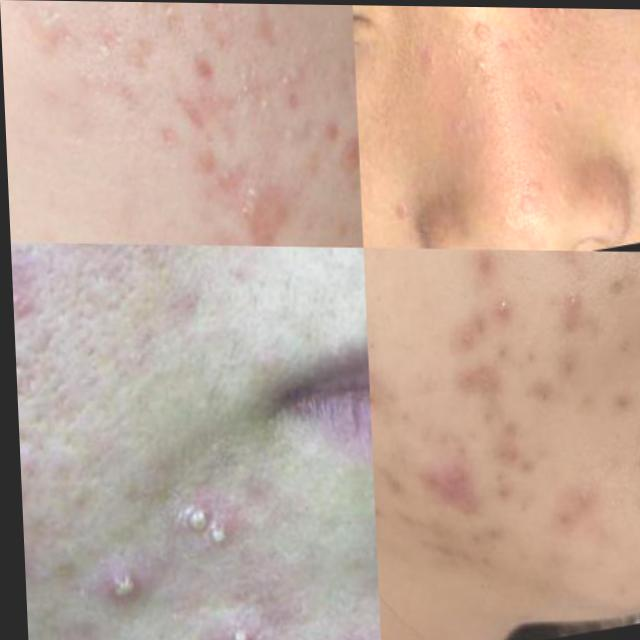8: (401, 447, 496, 533), (220, 161, 303, 246), (551, 472, 609, 522), (181, 41, 225, 99), (329, 128, 359, 188)
9: (155, 473, 248, 558), (83, 555, 151, 618), (210, 613, 261, 640)
blackheads: (173, 79, 245, 143), (153, 7, 199, 59), (124, 32, 161, 90), (184, 149, 219, 181)
dark spot: (364, 320, 389, 364), (516, 340, 549, 371), (487, 341, 510, 369)
